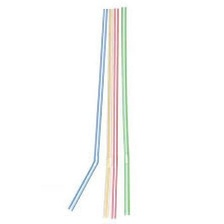drinking_straw: (63, 5, 107, 216), (119, 4, 133, 219)
